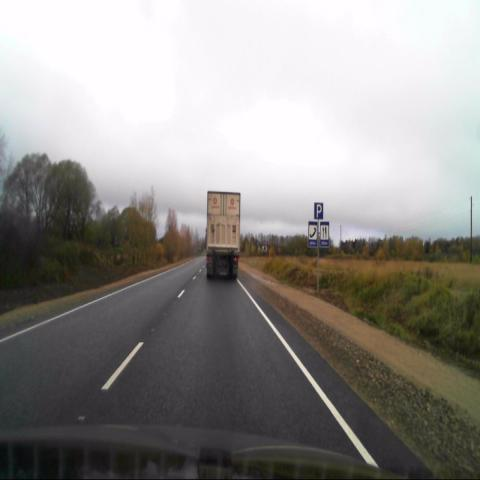7_6: (308, 221, 317, 247)
7_7: (320, 221, 329, 248)
